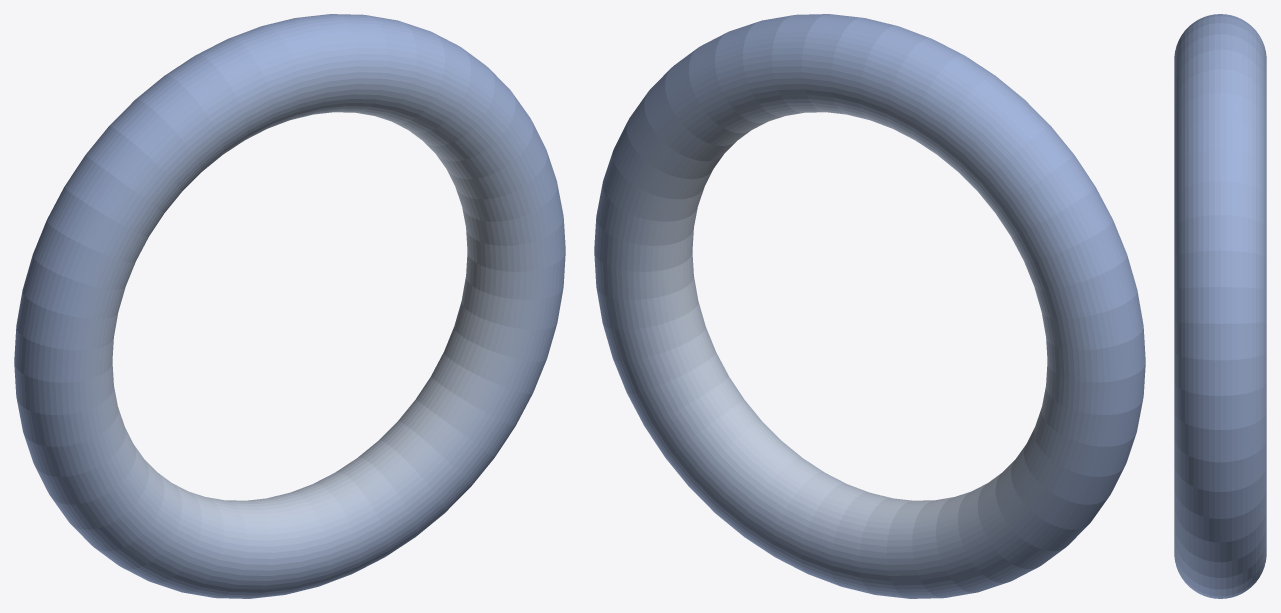
The picture shows the model from 3 angles, left to right: view 1: azimuth 30°, elevation 25°; view 2: azimuth 150°, elevation 25°; view 3: azimuth 270°, elevation 25°; orthographic projection. The views are drawn at different scales.
Visible parts, largest first — view 1: world; view 2: world; view 3: world.
Boxes of the visible parts, x1,y1,x2,y2 form: world: (14,14,565,598); world: (594,14,1145,598); world: (1174,14,1266,598).
Size of the model in its own units: 26.13 by 26.08 by 4.13.
